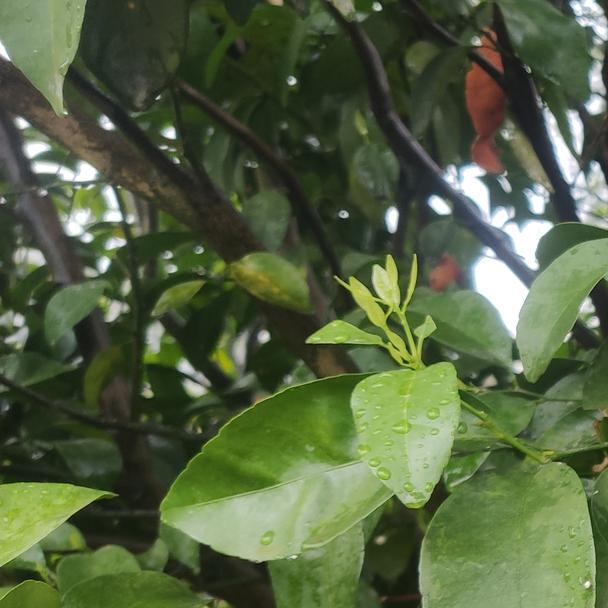shoot: (338, 248, 434, 378)
